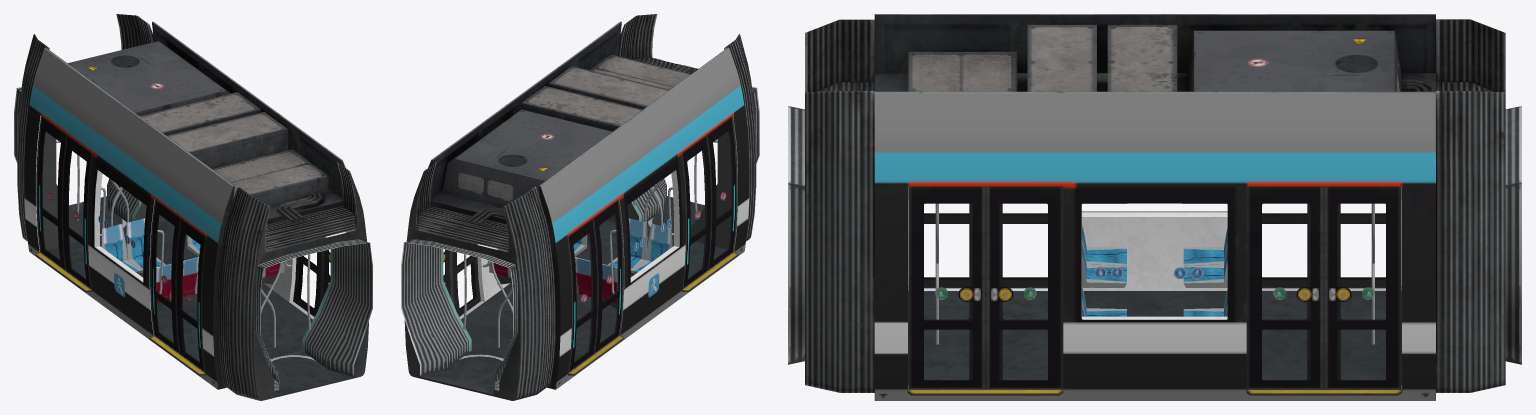
File: urbosb.obj
3 renders of one model, left to right at view 1: azimuth 30°, elevation 25°; view 2: azimuth 150°, elevation 25°; view 3: azimuth 270°, elevation 25°, orthographic. The views are drawn at different scales.
Parts seen in each view (by area): view 1: body_4_lod0, int_4_lod0, d9, d12, d11, d10, d6, d5; view 2: body_4_lod0, int_4_lod0, d12, d9, d10, d11, d7, d8; view 3: body_4_lod0, int_4_lod0, d6, d8, d7, d5, d11, d10, d12, d9.
Part boxes in pixels (left/top/right/bottom): body_4_lod0: left=17, top=14, right=368, bottom=400; int_4_lod0: left=14, top=86, right=372, bottom=394; d9: left=36, top=116, right=66, bottom=270; d12: left=176, top=218, right=206, bottom=372; d11: left=150, top=199, right=180, bottom=353; d10: left=62, top=135, right=92, bottom=289; d6: left=293, top=251, right=322, bottom=316; d5: left=321, top=249, right=330, bottom=302; body_4_lod0: left=404, top=14, right=756, bottom=400; int_4_lod0: left=401, top=86, right=759, bottom=394; d12: left=707, top=116, right=737, bottom=270; d9: left=567, top=218, right=597, bottom=372; d10: left=593, top=199, right=623, bottom=353; d11: left=681, top=135, right=711, bottom=289; d7: left=451, top=251, right=480, bottom=316; d8: left=443, top=249, right=452, bottom=302; body_4_lod0: left=805, top=14, right=1505, bottom=400; int_4_lod0: left=788, top=106, right=1521, bottom=388; d6: left=985, top=186, right=1063, bottom=389; d8: left=1323, top=186, right=1401, bottom=389; d7: left=1246, top=186, right=1324, bottom=389; d5: left=908, top=186, right=986, bottom=389; d11: left=1002, top=213, right=1047, bottom=288; d10: left=1262, top=213, right=1307, bottom=288; d12: left=924, top=213, right=969, bottom=288; d9: left=1340, top=213, right=1385, bottom=288.
Size of the model in its own units: 2.7 by 3.39 by 7.59.
Materials: 2 (2 with a texture image).
